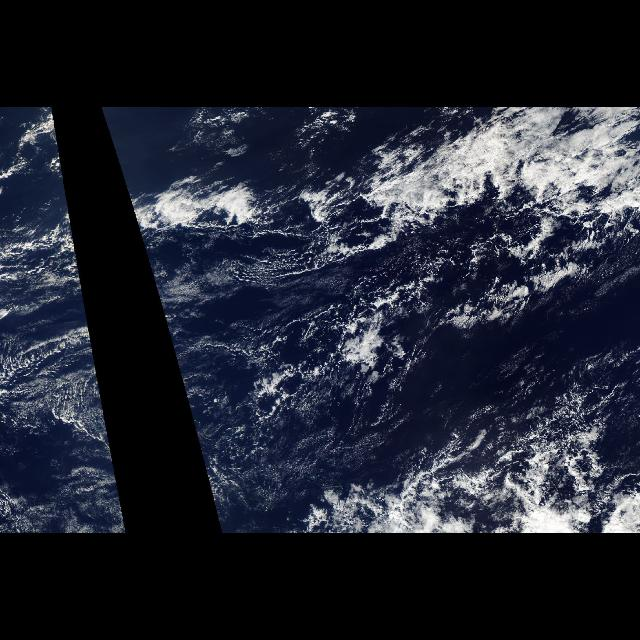Gravel: (144, 250, 432, 502), (6, 260, 122, 502)
